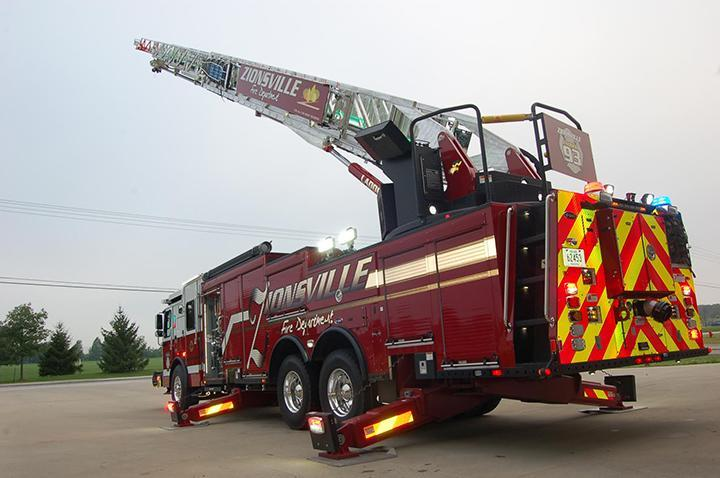Fire-engine: (156, 58, 716, 461)
